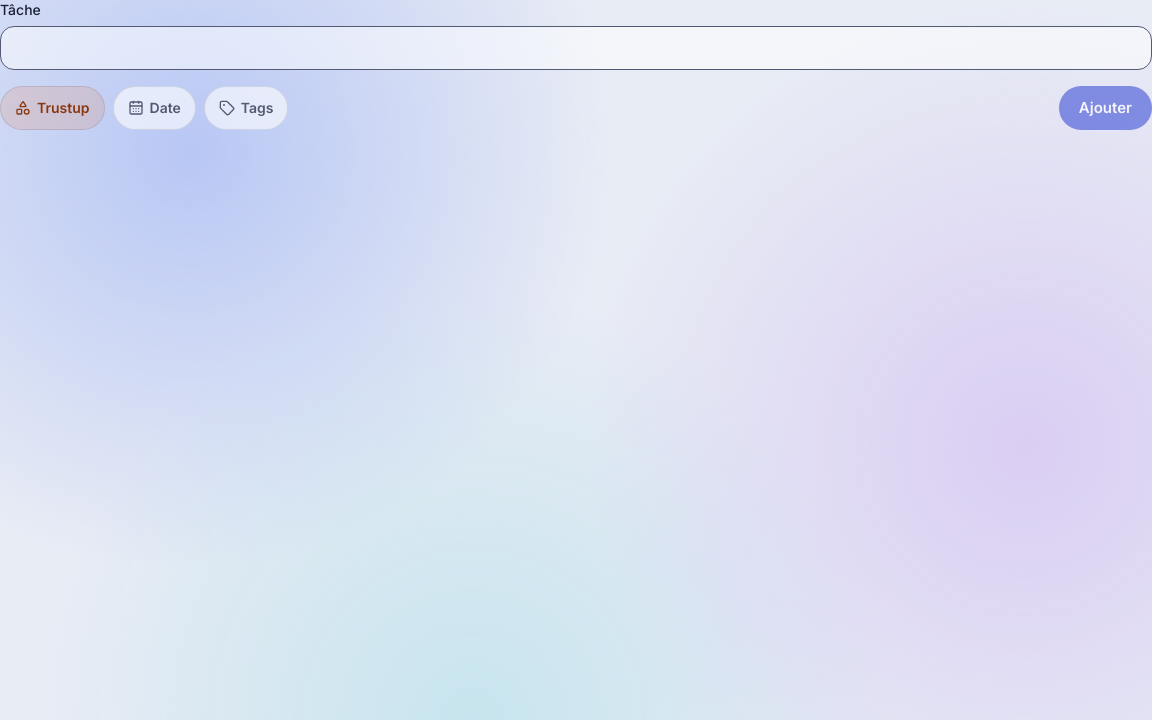
ajout rapide : formulaire tâche › tags non chargés : message, création toujours possible
Click the button with aria-label "Tags :" at (246, 108), box x1=204 y1=86 x2=288 y2=130
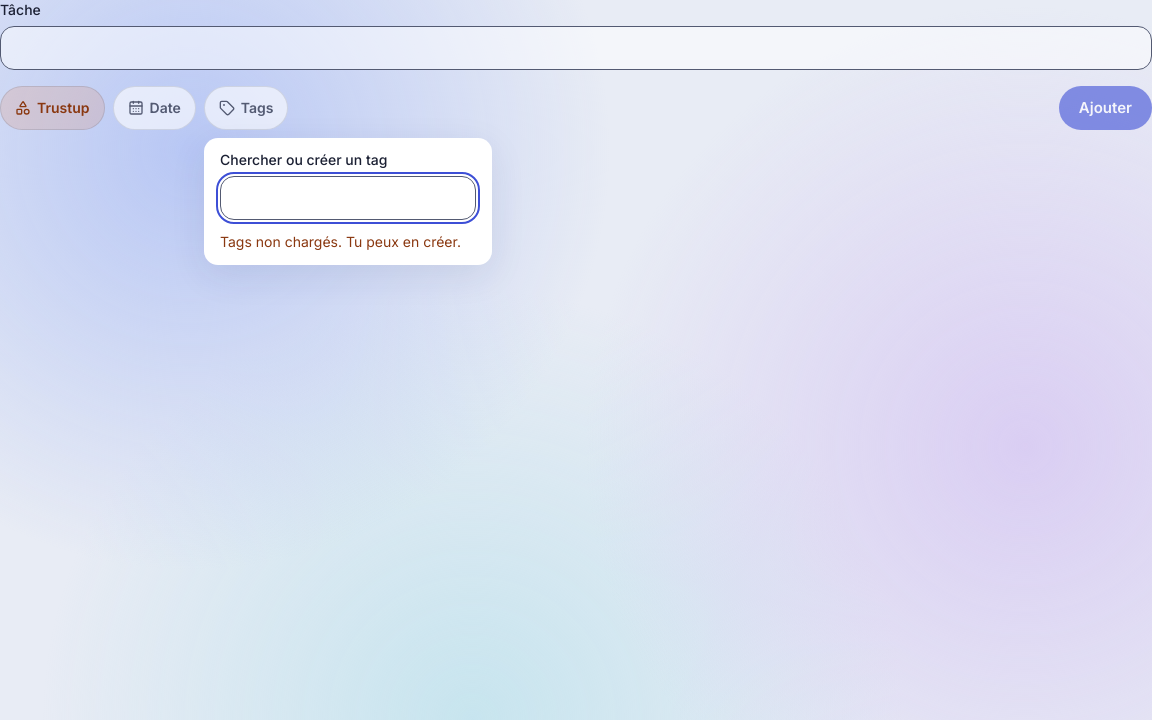
Type "client" into the field labelled "Chercher ou créer un tag" at (348, 198), box x1=220 y1=176 x2=476 y2=220
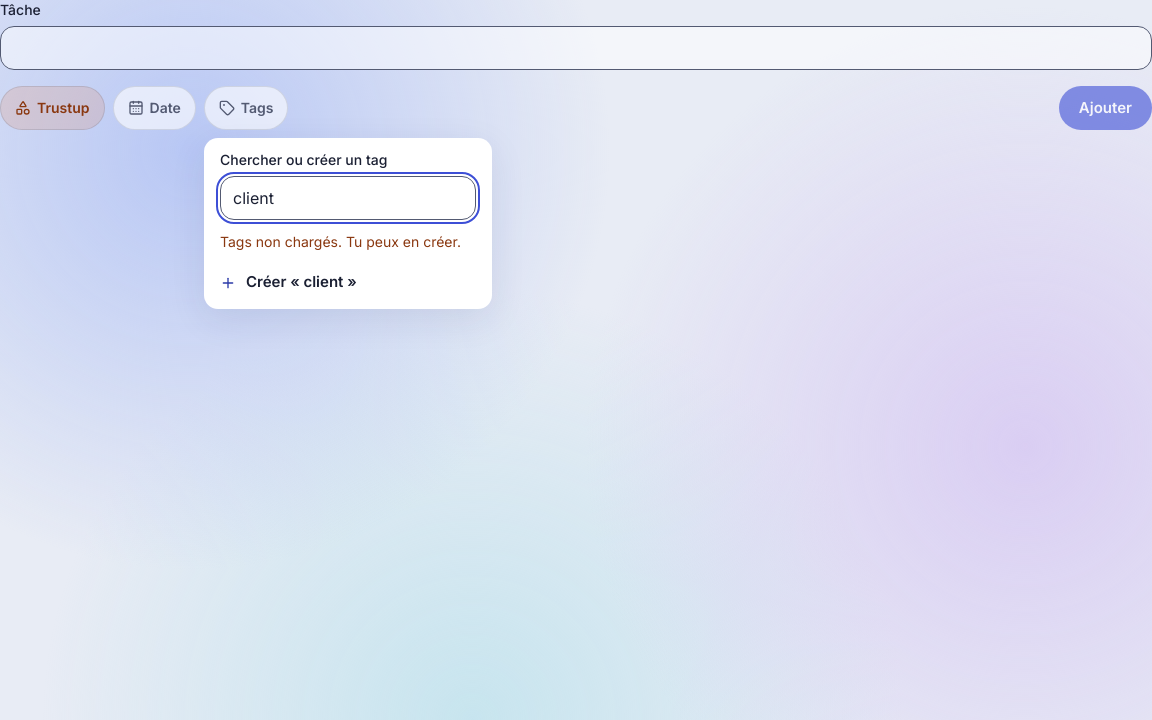
expect the text "Tags non chargés. Tu peux en créer." is shown: met, box x1=220 y1=233 x2=461 y2=250
expect the button "Créer « client »" is shown: met, box x1=208 y1=261 x2=488 y2=305
